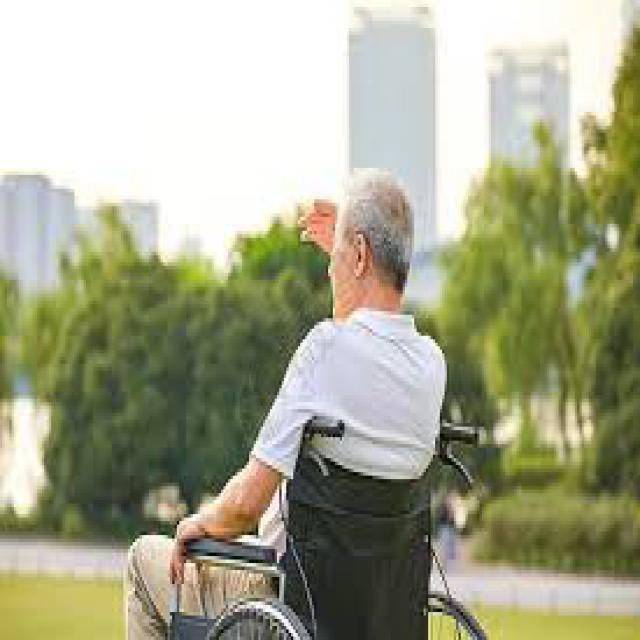wheelchairs: (160, 412, 502, 636)
